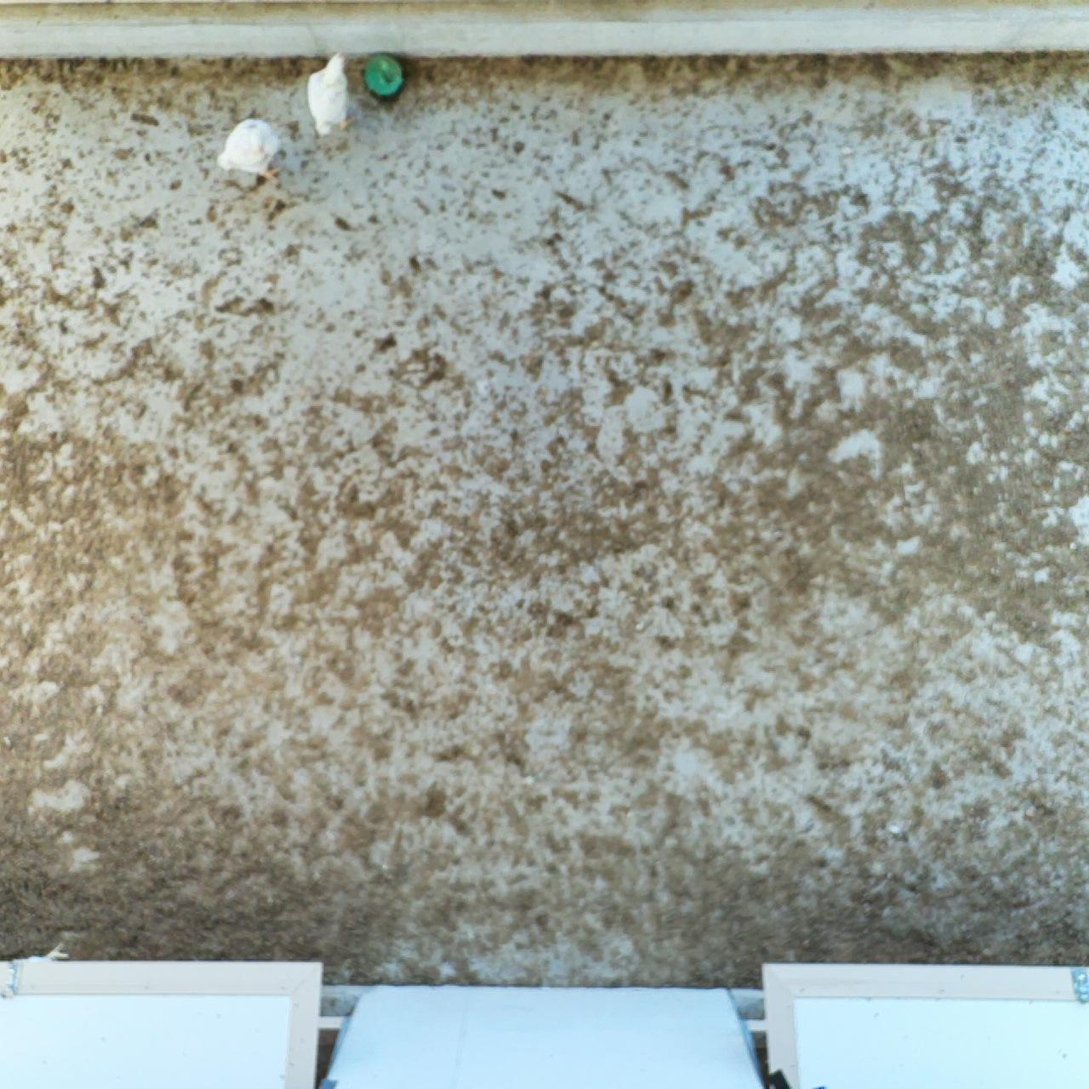chicken: (301, 50, 367, 142), (213, 115, 288, 190)
